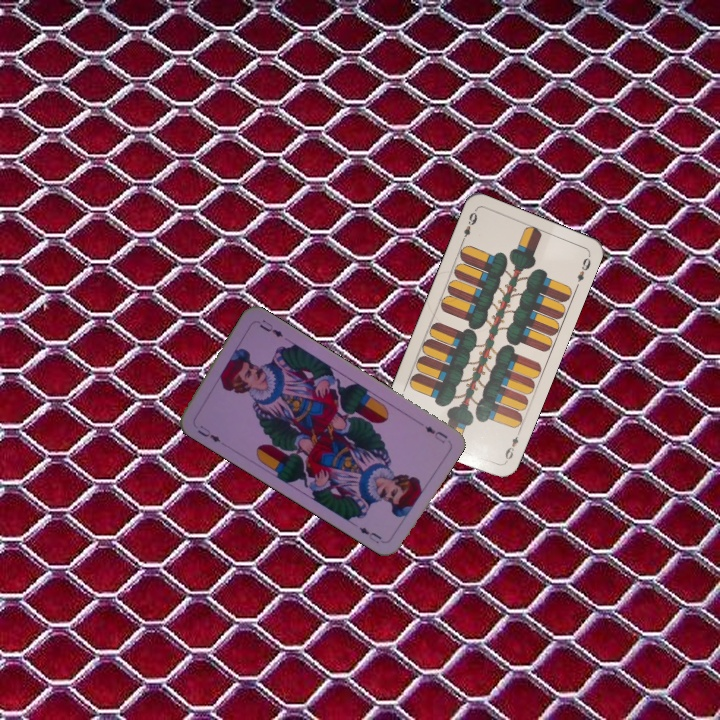E9: (501, 427, 523, 466), (457, 208, 480, 245)
EU: (193, 421, 223, 445), (420, 422, 450, 446)
